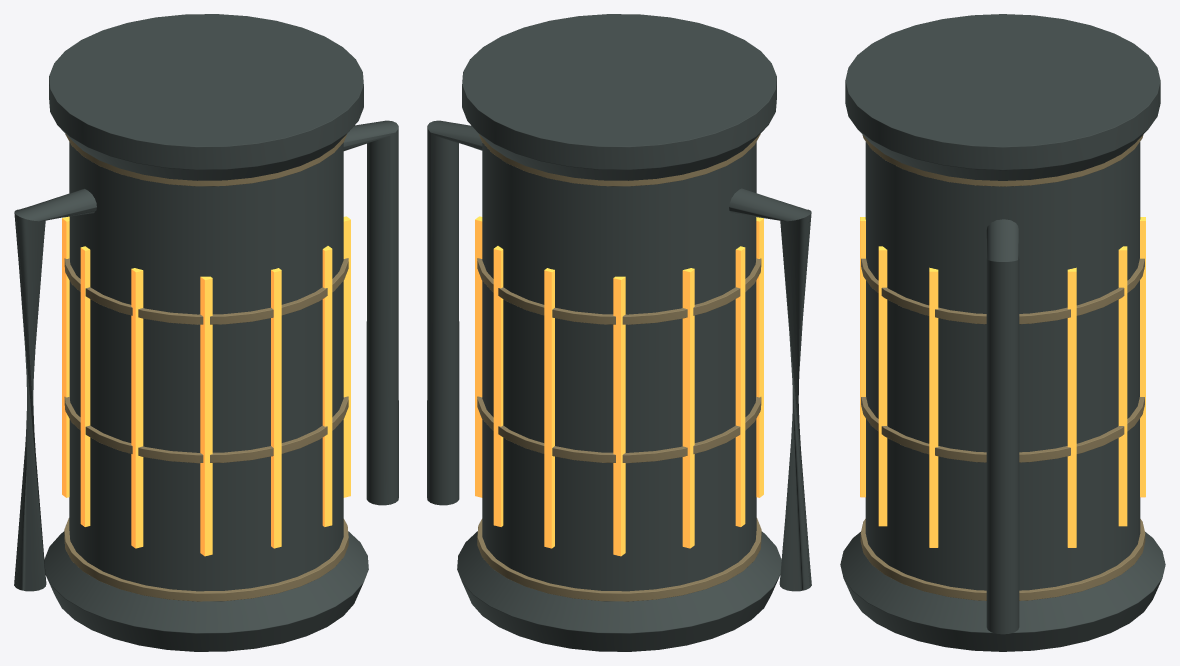
The model's file is furnace_stack.glb.
3 renders of one model, left to right at view 1: azimuth 30°, elevation 25°; view 2: azimuth 150°, elevation 25°; view 3: azimuth 270°, elevation 25°, orthographic.
Visible parts, largest first — view 1: Furnace body; view 2: Furnace body; view 3: Furnace body.
Part boxes in pixels (left/top/right/bottom): Furnace body: left=14, top=14, right=398, bottom=651; Furnace body: left=427, top=14, right=811, bottom=651; Furnace body: left=840, top=14, right=1165, bottom=651.
Bounding box in the file's own units: 8.64 × 11 × 6.4.
